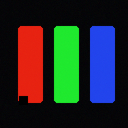1 square: (19, 96, 27, 104)
